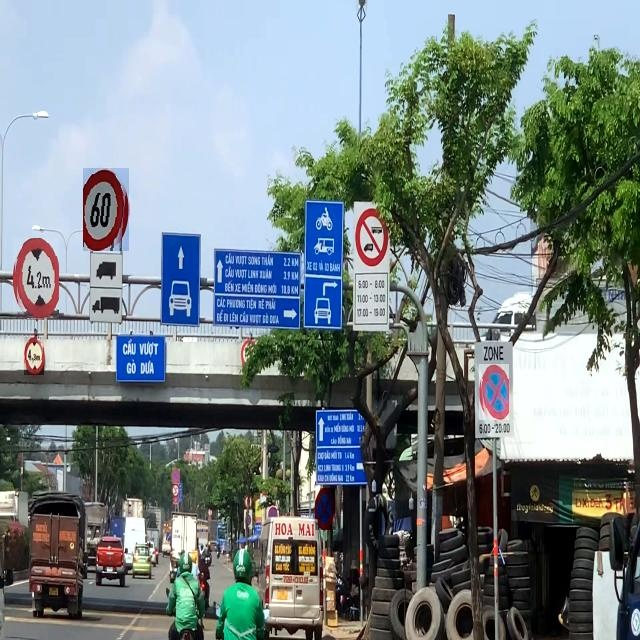bien_chi_dan: (84, 168, 130, 251), (13, 238, 59, 320), (479, 364, 509, 420), (315, 488, 335, 530), (24, 337, 44, 375), (172, 468, 180, 484)
